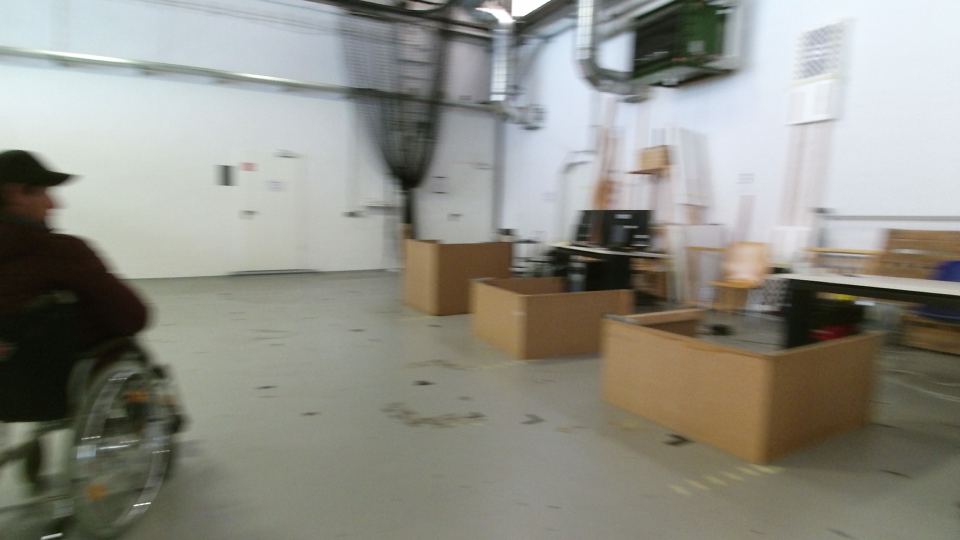wheelchair: (1, 154, 236, 523)
